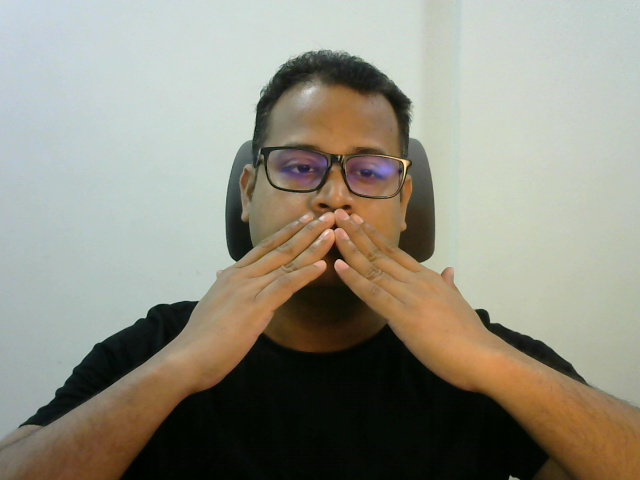ThankYou: (183, 208, 482, 395)
